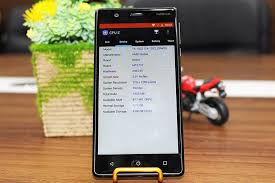nokia: (92, 3, 188, 182)
